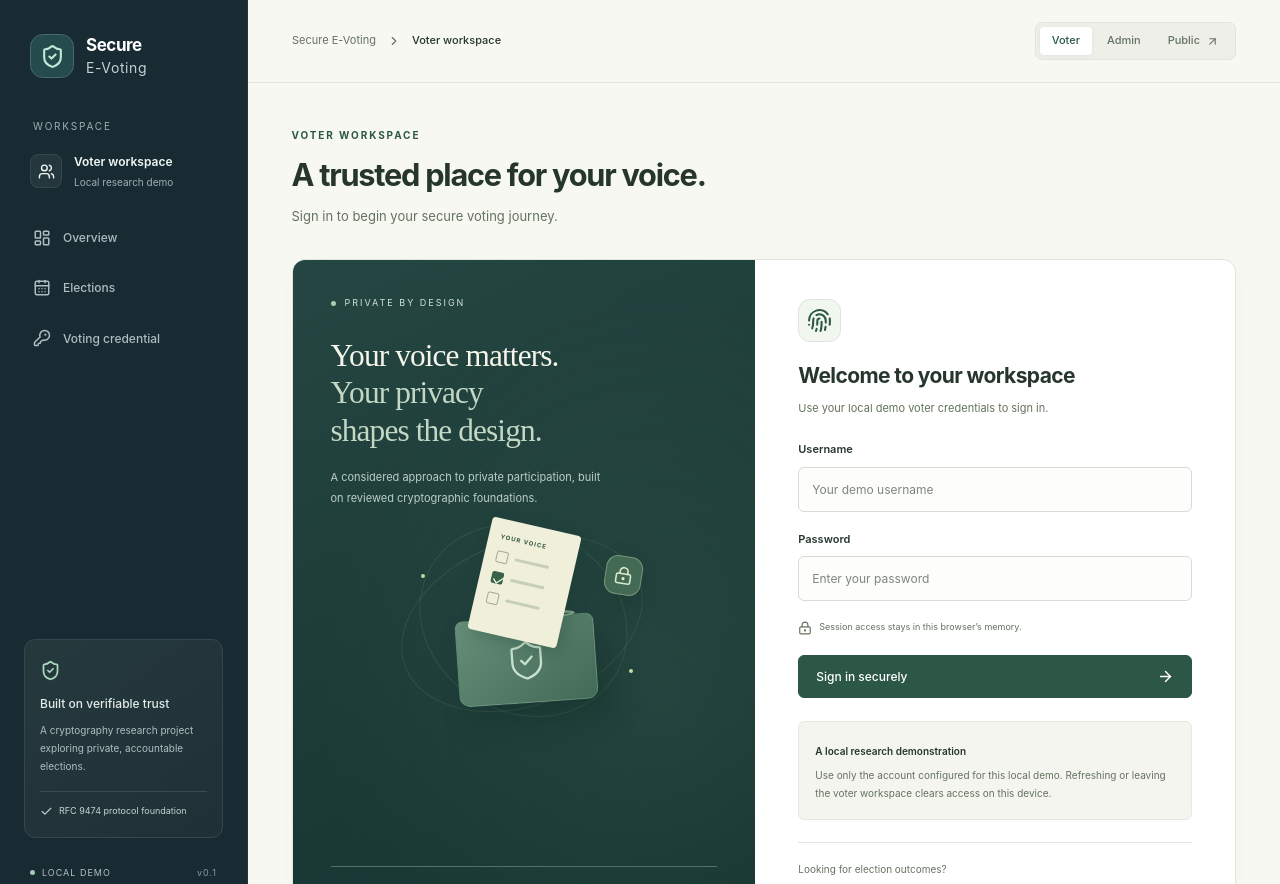
voter access and state transitions › returns to login when the server reports expiry
The width and height of the screenshot is (1280, 884).
In the field labelled "Username": (995, 489) [798, 467, 1192, 512], type "synthetic-voter"
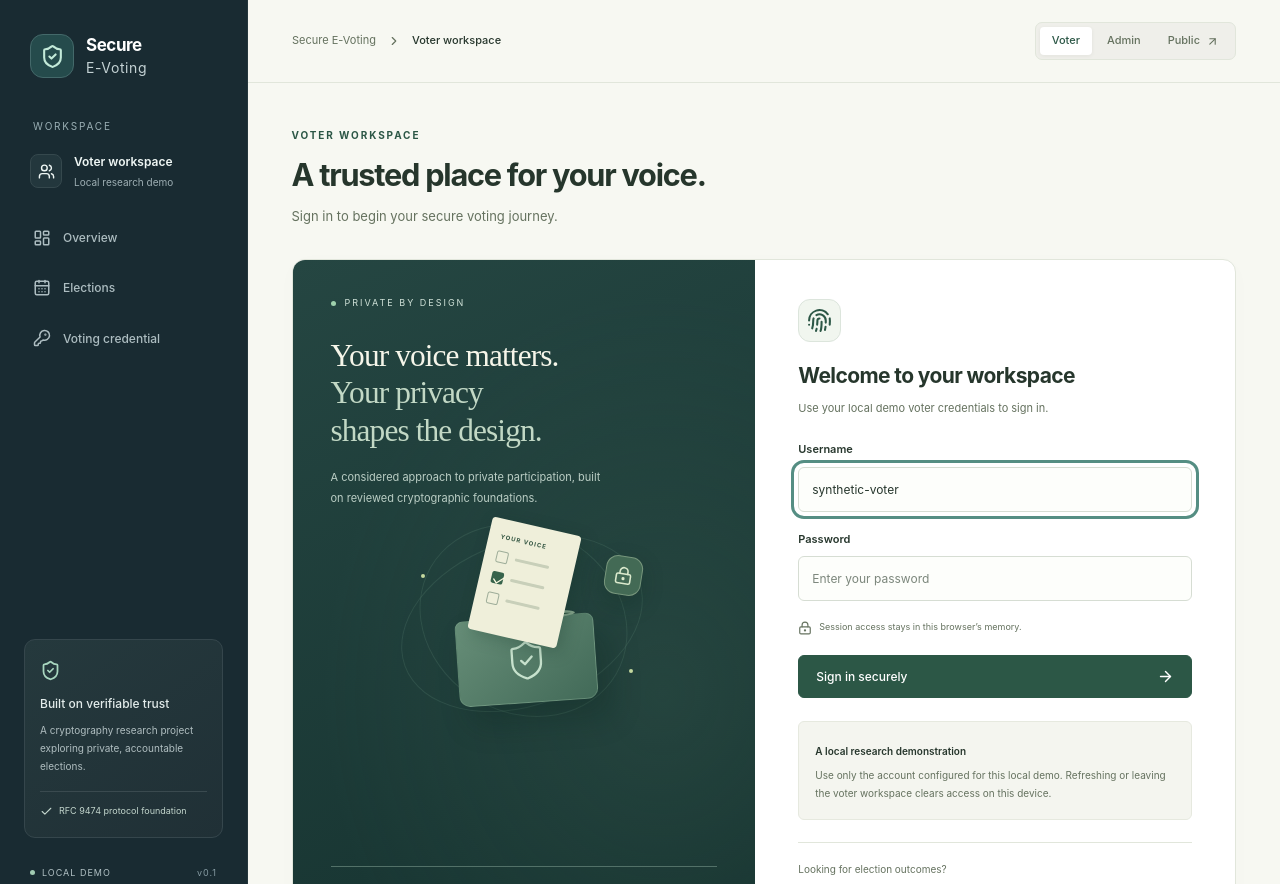
In the password field labelled "Password": (995, 579) [798, 556, 1192, 601], type "synthetic-password"
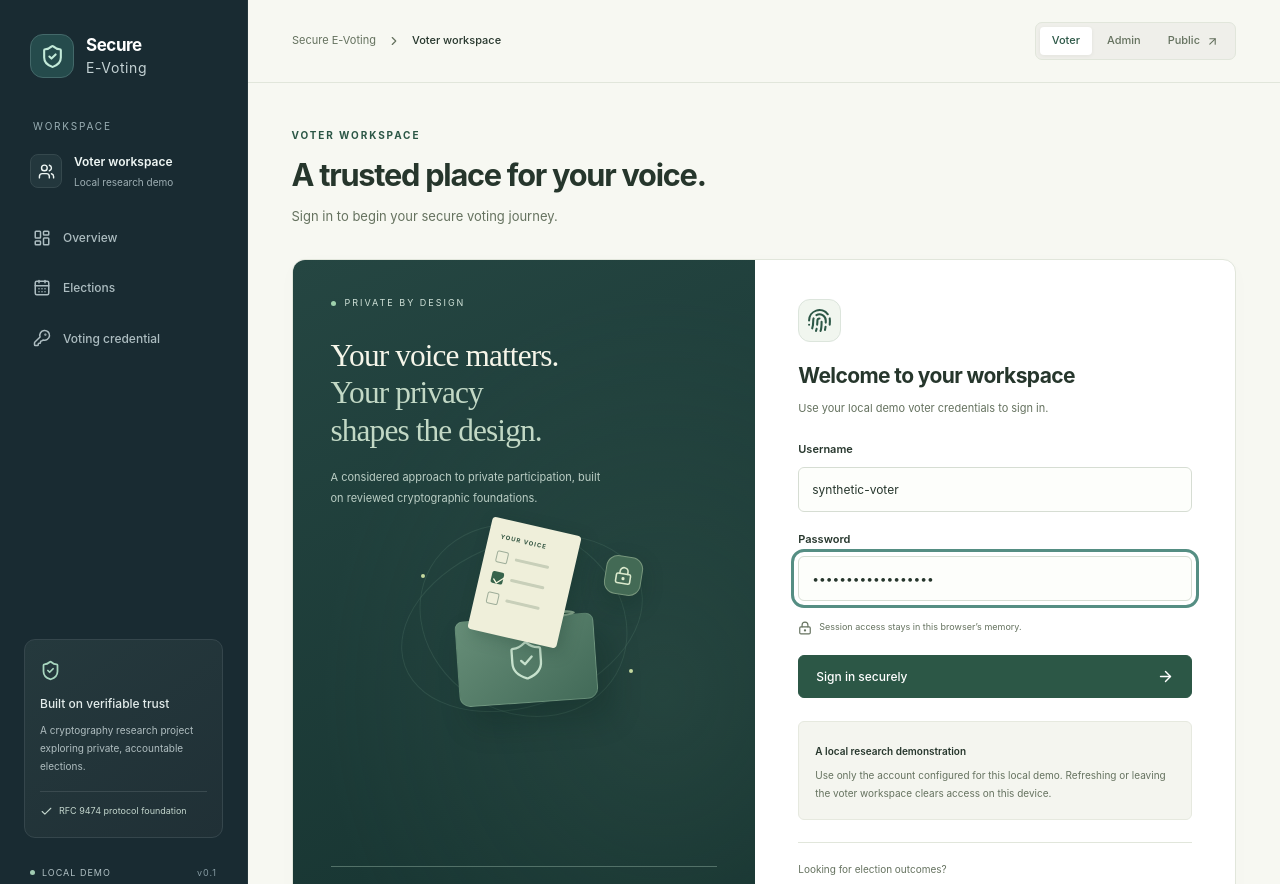
Click the button "Sign in securely": (862, 676) [798, 655, 1192, 698]
(page scrolled)
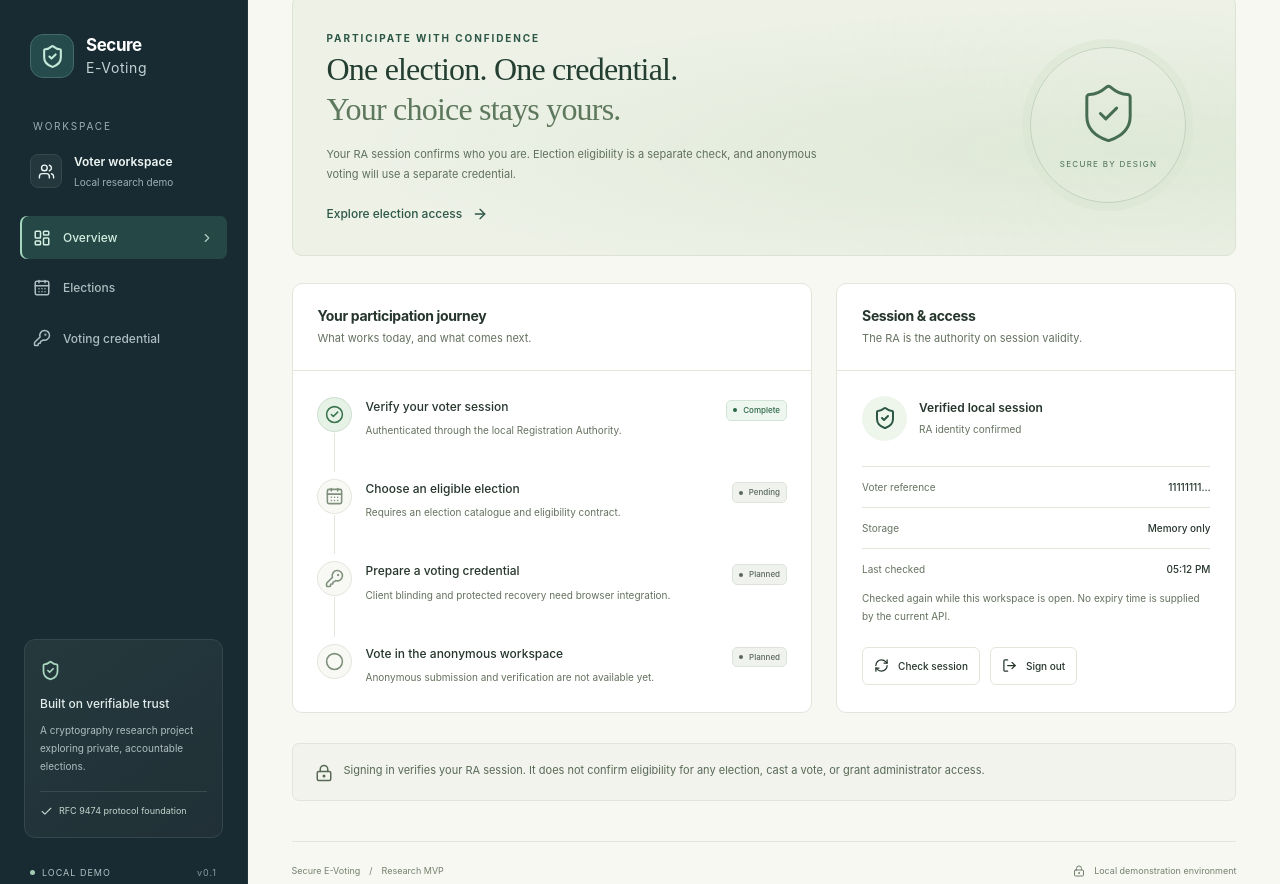
Click the button "Check session": (921, 666) [862, 647, 980, 685]
(page scrolled)
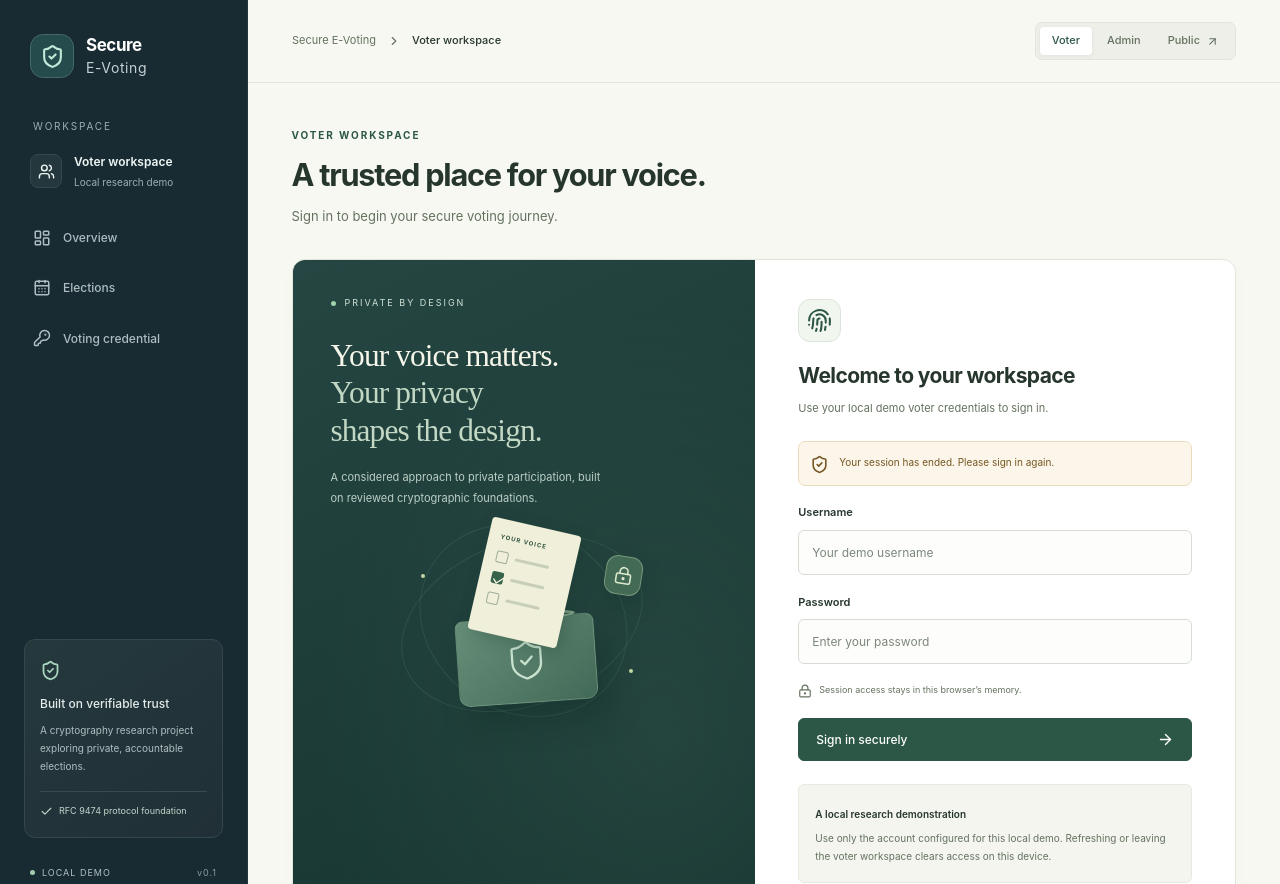
Check: the text "Your session has ended. Please sign in again." is shown, box [839, 453, 1054, 471]
